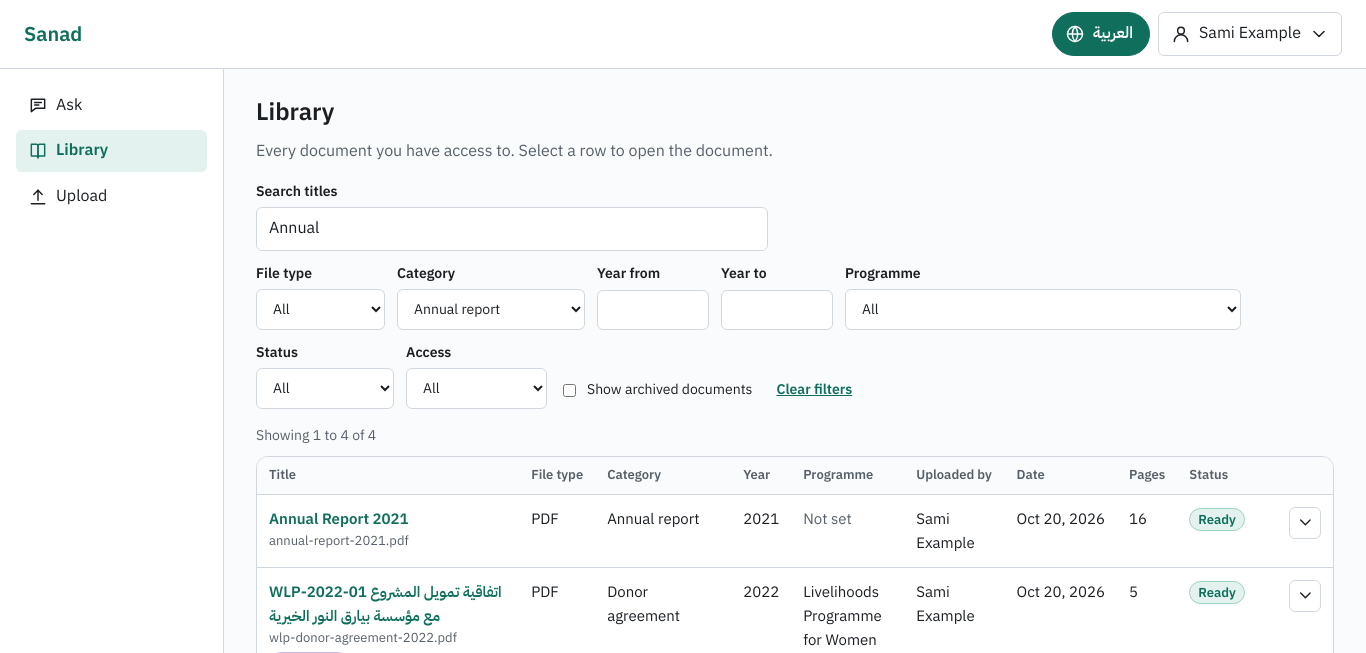
Library filters › keeps the filters and makes no GET when the language switches
Click the button "العربية" at {"x": 1101, "y": 34}, box x1=1052 y1=12 x2=1150 y2=56
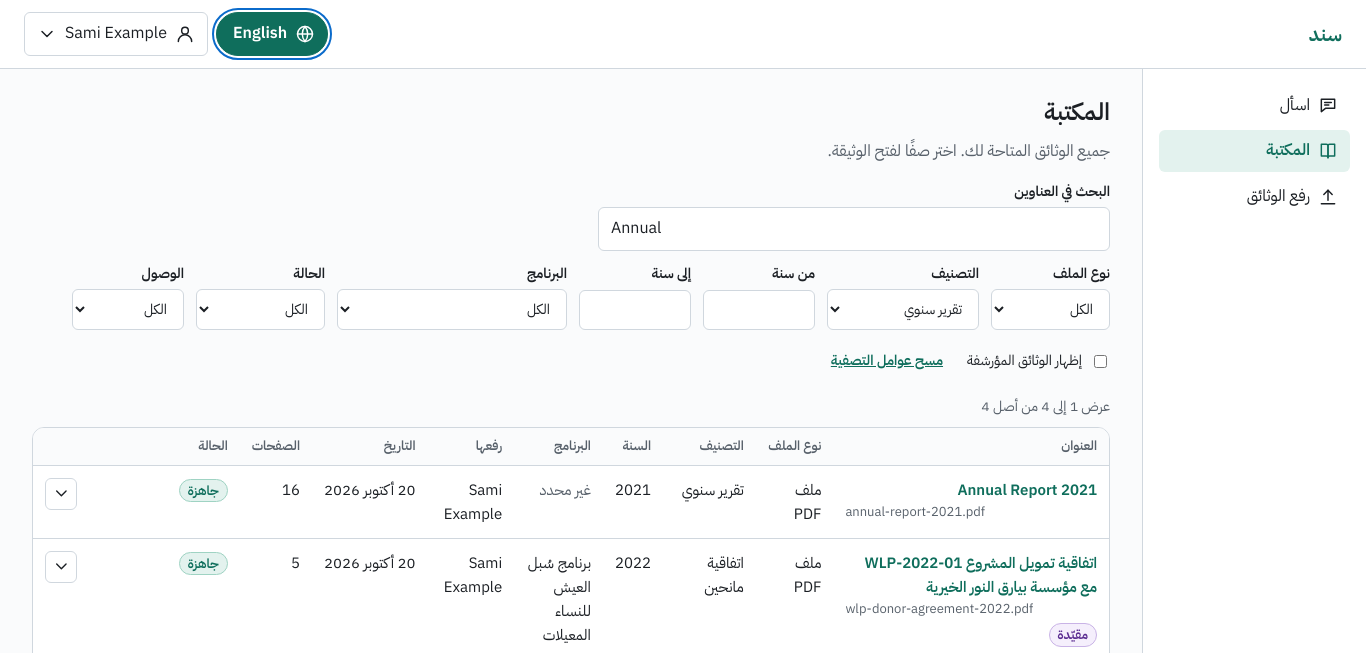
Check: the heading "المكتبة" is shown, box x1=1044 y1=94 x2=1110 y2=130
Check: the dropdown labelled "التصنيف" shows "تقرير سنوي", box x1=827 y1=289 x2=979 y2=330
Check: the text "برنامج سُبل العيش للنساء المعيلات" is shown, box x1=528 y1=552 x2=591 y2=646
